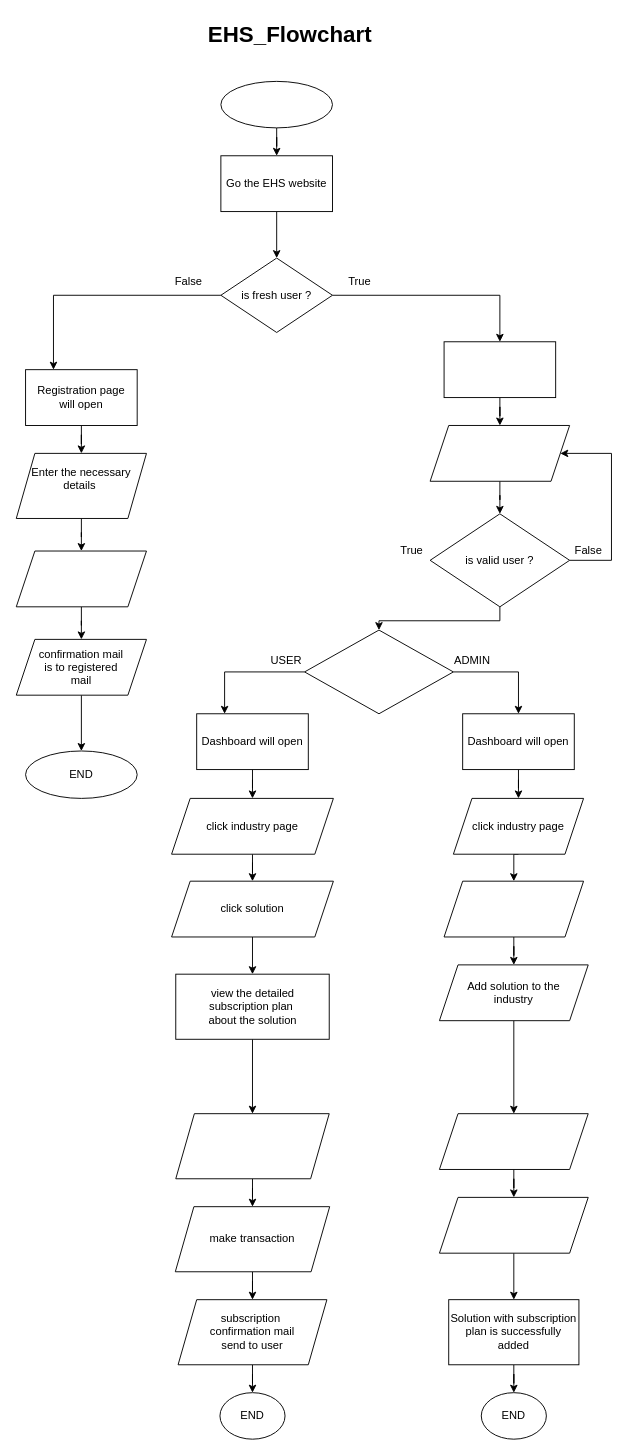
Image size: 635x1455. Some labels were removed from this diagram. Each missing label, with the centre of its shape:
"Add industry" belongs at point 513,908.
"Add payment details for subscription" belongs at point 513,1224.
"Add subscription plan details" belongs at point 513,1141.
"click sign up" belongs at point 80,578.
"Enter login credentials" belongs at point 499,453.
"login page will open" belongs at point 499,369.
"select the payment method" belongs at point 252,1146.
"start" belongs at point 276,104.
"validate user role ?" belongs at point 378,671.
